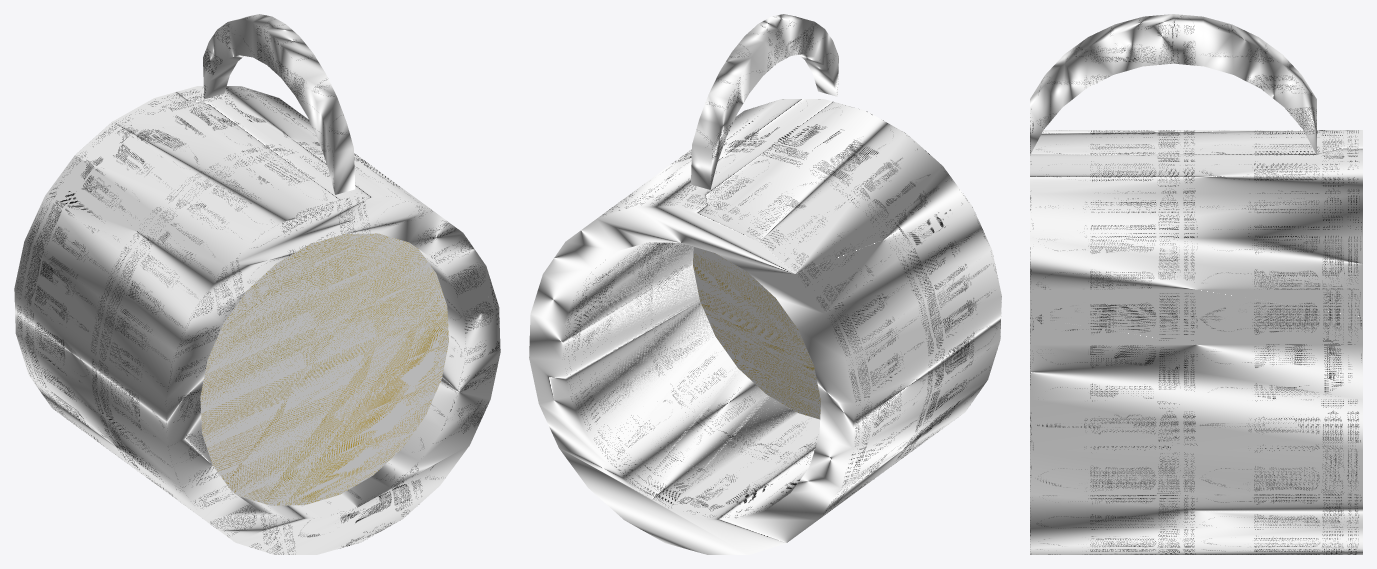
Rendered from model_align.obj.
The picture shows the model from 3 angles, left to right: view 1: azimuth 30°, elevation 25°; view 2: azimuth 150°, elevation 25°; view 3: azimuth 270°, elevation 25°; orthographic projection. The views are drawn at different scales.
Size of the model in its own units: 0.0855 by 0.1159 by 0.0672.
